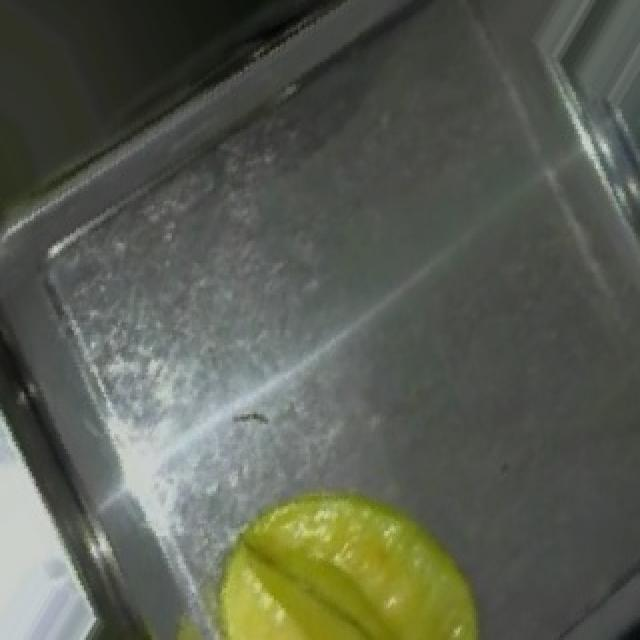fruit: (178, 426, 556, 640)
